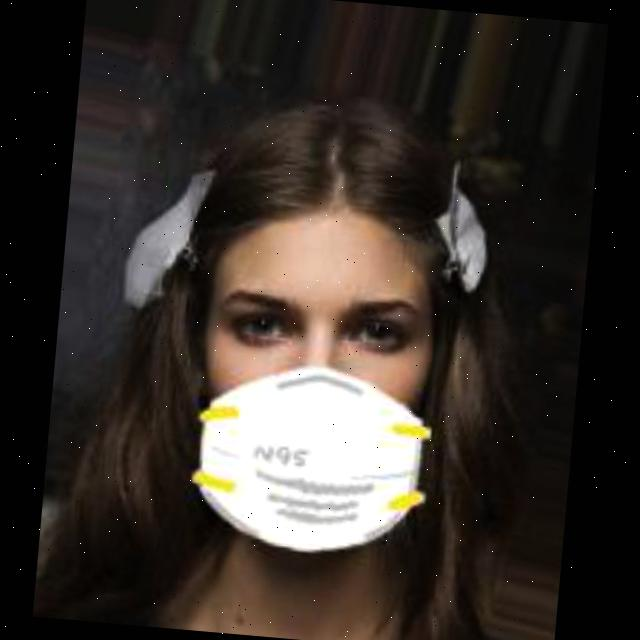suspicion: (142, 98, 539, 560)
